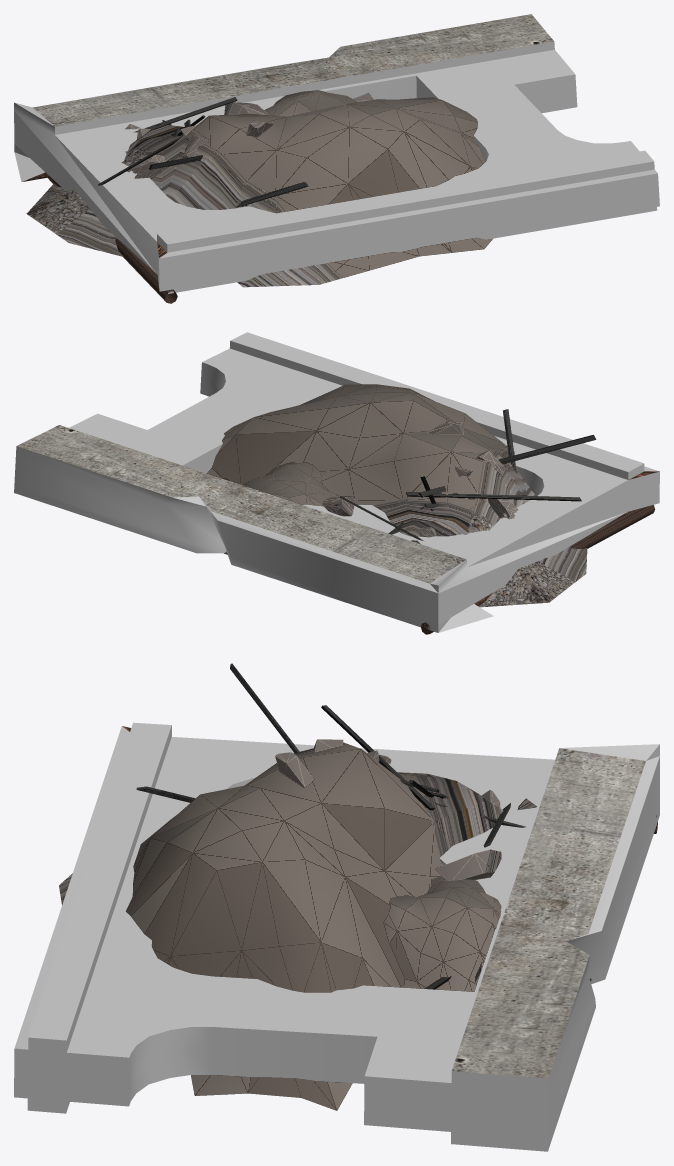
File: ruins with shut.fbx
3 views of the same model, one above another, from view 1: azimuth 30°, elevation 25°; view 2: azimuth 150°, elevation 25°; view 3: azimuth 270°, elevation 25° (orthographic). The views are drawn at different scales.
Visible parts, largest first — view 1: polymsh61; view 2: polymsh61; view 3: polymsh61.
Boxes of the visible parts, box(x1,y1,x2,y2) form: polymsh61: box(14, 14, 659, 303); polymsh61: box(14, 332, 659, 634); polymsh61: box(14, 663, 659, 1151).
Bounding box in the file's own units: 5.19 × 1.11 × 3.8.
